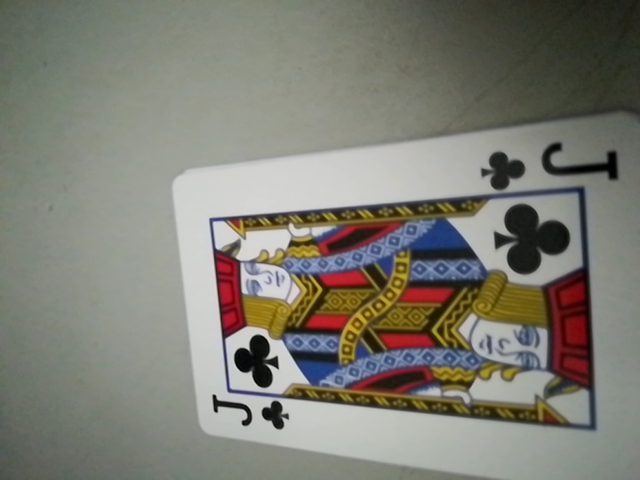mh j: (478, 133, 620, 195), (207, 389, 292, 439)
